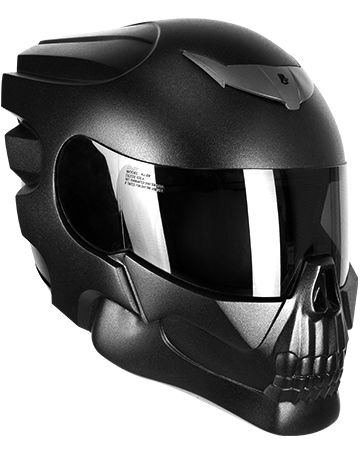with_helmet: (2, 4, 362, 437)
